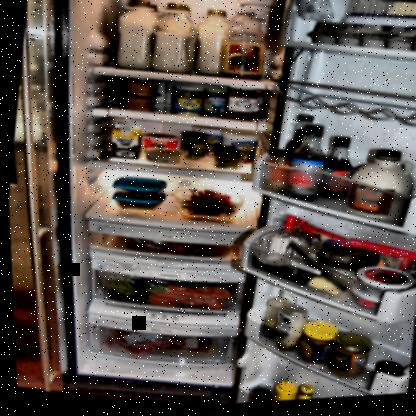eggs: (310, 20, 415, 65)
milk: (148, 1, 200, 77), (112, 0, 159, 72), (191, 11, 228, 78)
red_grapes: (185, 189, 229, 209)
